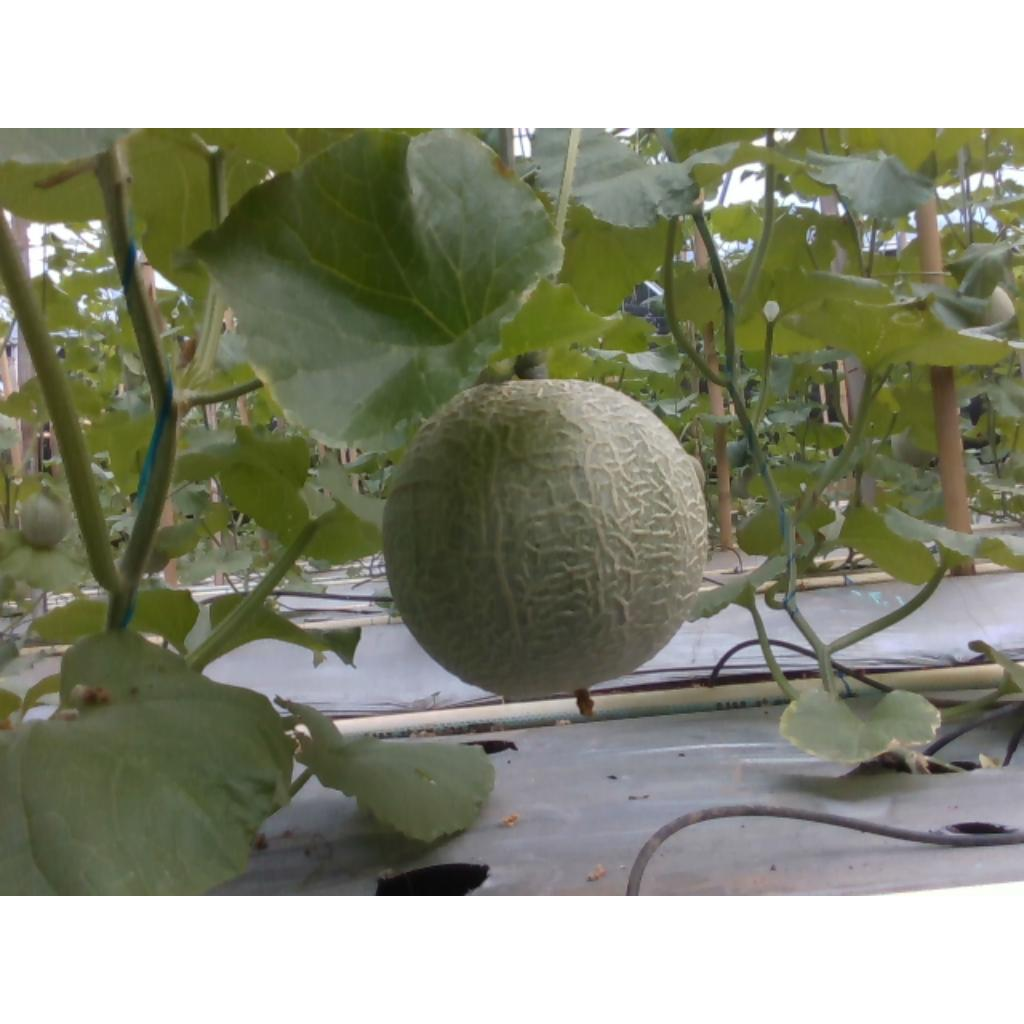melon: (384, 378, 709, 716)
